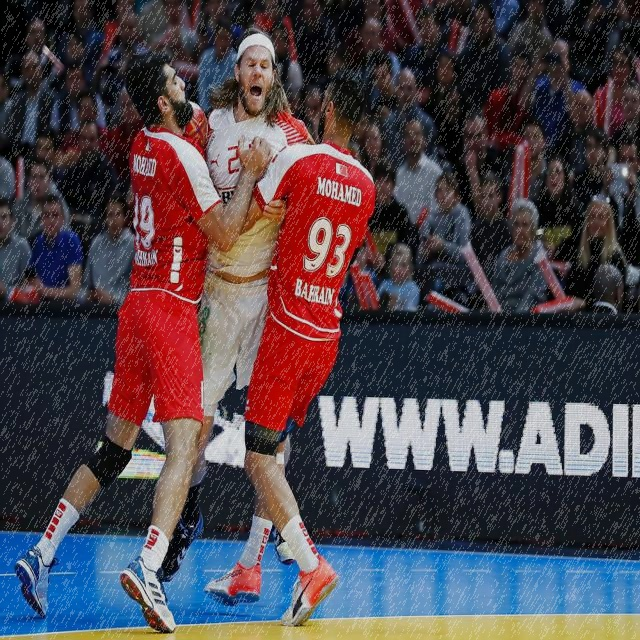pessoa: (10, 42, 275, 640), (198, 55, 384, 634), (151, 24, 318, 589), (62, 114, 120, 279), (516, 36, 586, 152), (492, 0, 639, 55), (489, 194, 551, 314), (563, 193, 627, 305), (534, 156, 584, 298), (352, 0, 470, 60), (28, 192, 84, 304), (418, 170, 475, 280), (85, 190, 138, 308), (9, 156, 72, 253), (0, 99, 28, 316), (398, 114, 446, 238), (469, 170, 516, 286), (483, 40, 533, 149), (454, 112, 506, 216), (592, 42, 640, 144), (387, 67, 435, 166), (8, 51, 58, 146), (612, 75, 640, 243), (368, 160, 412, 266), (49, 62, 106, 133), (552, 88, 594, 182), (9, 44, 102, 84), (570, 126, 612, 214), (432, 84, 474, 168), (102, 45, 139, 137), (376, 241, 422, 312), (62, 91, 111, 155), (518, 116, 550, 205), (364, 52, 400, 126), (585, 262, 625, 326), (424, 51, 459, 118), (33, 124, 66, 192), (357, 119, 392, 181)
